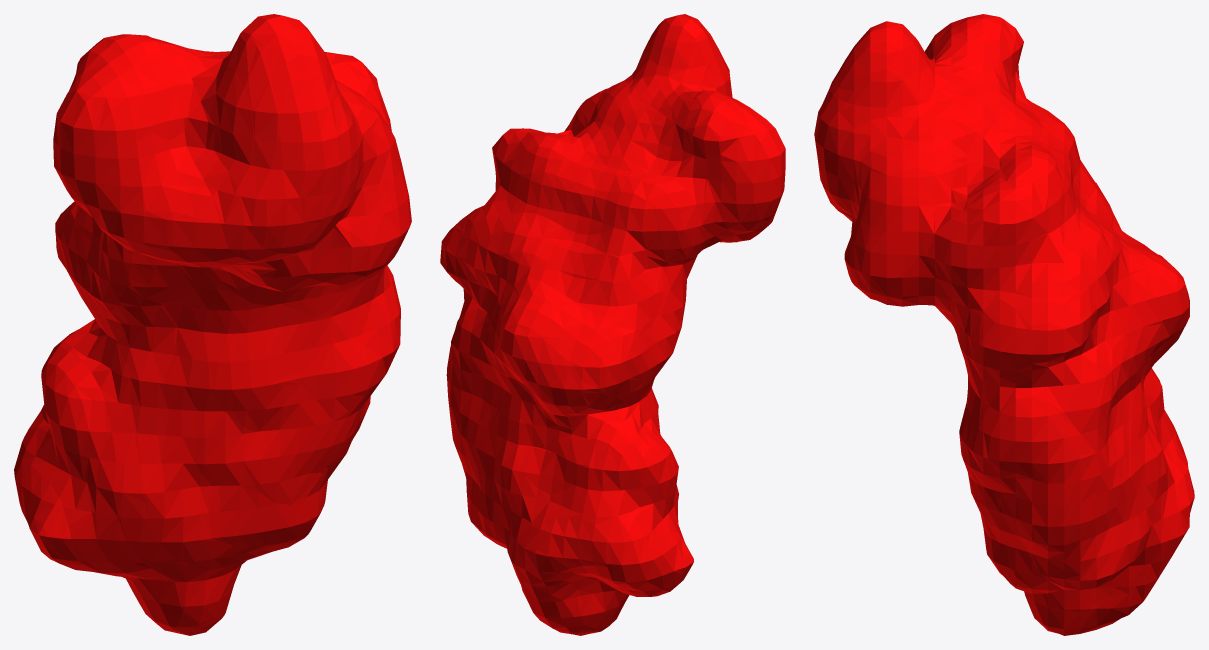
Rendered from flk_coarse.dae.
3 views of the same model, side by side, from view 1: azimuth 30°, elevation 25°; view 2: azimuth 150°, elevation 25°; view 3: azimuth 270°, elevation 25° (orthographic). The views are drawn at different scales.
Visible parts, largest first — view 1: flk; view 2: flk; view 3: flk.
Boxes of the visible parts, x1,y1,x2,y2 form: flk: (14,14,411,635); flk: (440,14,785,635); flk: (814,14,1194,635).
Bounding box in the file's own units: 52.15 × 91.92 × 52.77.
